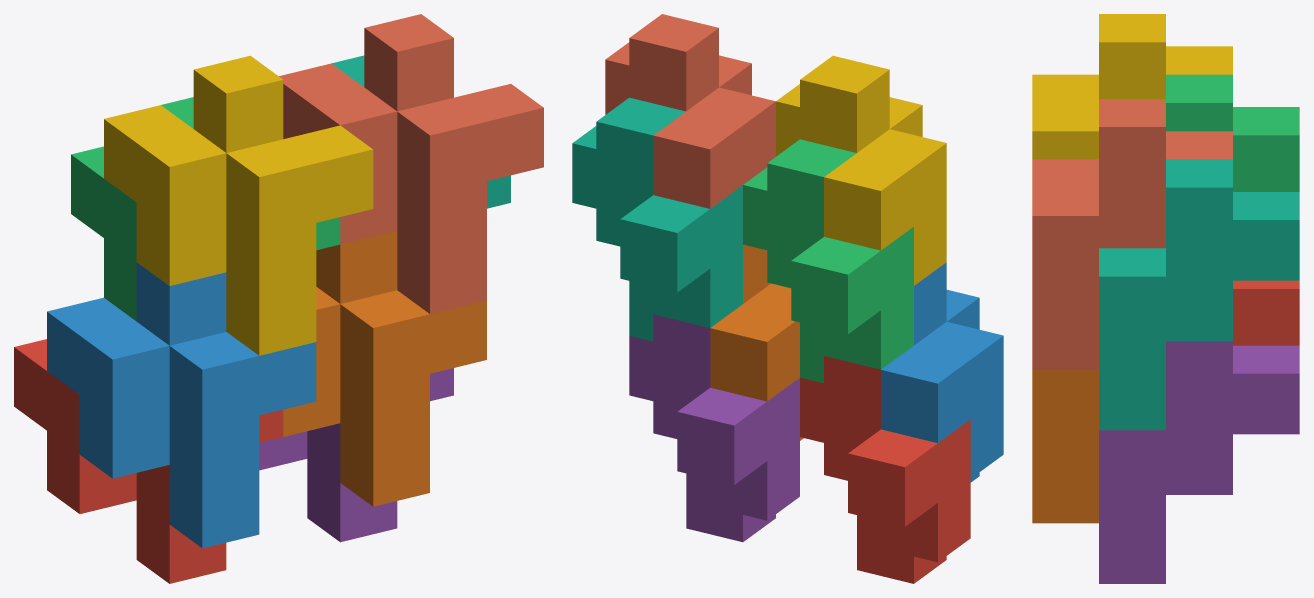
File: tiling.obj
The picture shows the model from 3 angles, left to right: view 1: azimuth 30°, elevation 25°; view 2: azimuth 150°, elevation 25°; view 3: azimuth 270°, elevation 25°; orthographic projection.
Parts seen in each view (by area): view 1: copy_1_domain_4, copy_1_domain_2, copy_1_domain_8, copy_1_domain_6, copy_1_domain_1, copy_1_domain_3, copy_1_domain_5, copy_1_domain_7; view 2: copy_1_domain_7, copy_1_domain_3, copy_1_domain_5, copy_1_domain_1, copy_1_domain_4, copy_1_domain_8, copy_1_domain_2, copy_1_domain_6; view 3: copy_1_domain_7, copy_1_domain_5, copy_1_domain_8, copy_1_domain_4, copy_1_domain_6, copy_1_domain_3, copy_1_domain_1.
Part boxes in pixels (left/top/right/bottom): copy_1_domain_4: left=104, top=55, right=373, bottom=355; copy_1_domain_2: left=47, top=262, right=316, bottom=548; copy_1_domain_8: left=279, top=14, right=543, bottom=313; copy_1_domain_6: left=283, top=230, right=486, bottom=506; copy_1_domain_1: left=14, top=339, right=283, bottom=583; copy_1_domain_3: left=71, top=97, right=340, bottom=321; copy_1_domain_5: left=259, top=368, right=453, bottom=542; copy_1_domain_7: left=332, top=55, right=510, bottom=208; copy_1_domain_7: left=572, top=97, right=742, bottom=341; copy_1_domain_3: left=743, top=139, right=913, bottom=383; copy_1_domain_5: left=629, top=314, right=799, bottom=542; copy_1_domain_1: left=800, top=356, right=970, bottom=583; copy_1_domain_4: left=776, top=55, right=946, bottom=285; copy_1_domain_8: left=605, top=14, right=775, bottom=208; copy_1_domain_2: left=881, top=262, right=1003, bottom=482; copy_1_domain_6: left=710, top=244, right=803, bottom=440; copy_1_domain_7: left=1099, top=159, right=1299, bottom=430; copy_1_domain_5: left=1099, top=341, right=1299, bottom=583; copy_1_domain_8: left=1032, top=99, right=1232, bottom=369; copy_1_domain_4: left=1032, top=14, right=1232, bottom=159; copy_1_domain_6: left=1032, top=369, right=1098, bottom=523; copy_1_domain_3: left=1166, top=74, right=1299, bottom=191; copy_1_domain_1: left=1233, top=280, right=1299, bottom=345.
Bounding box in the file's own units: 7 × 8 × 4.
